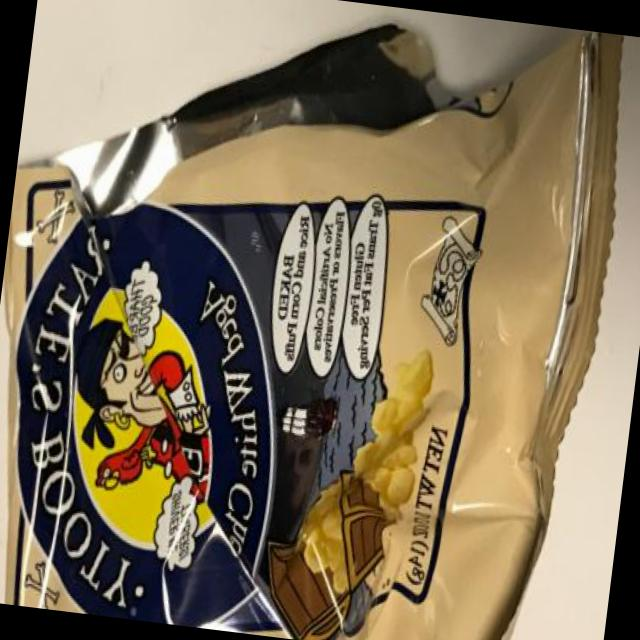giay_goi: (3, 24, 621, 640)
